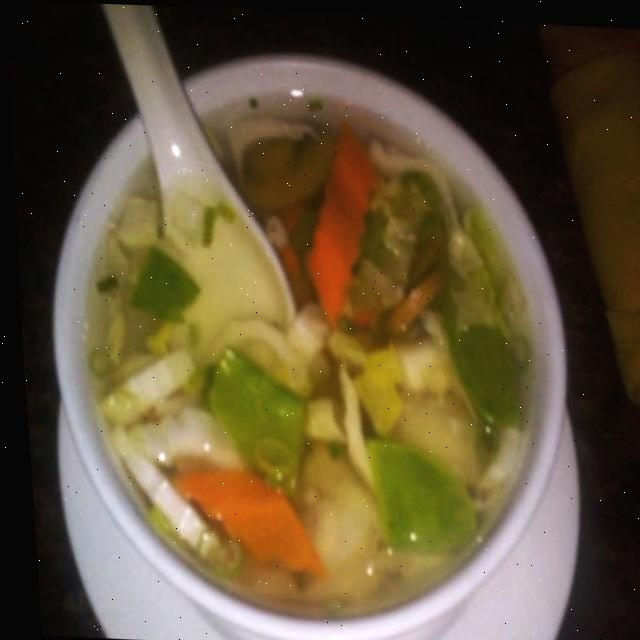汤锅炖物: (64, 63, 548, 627)
